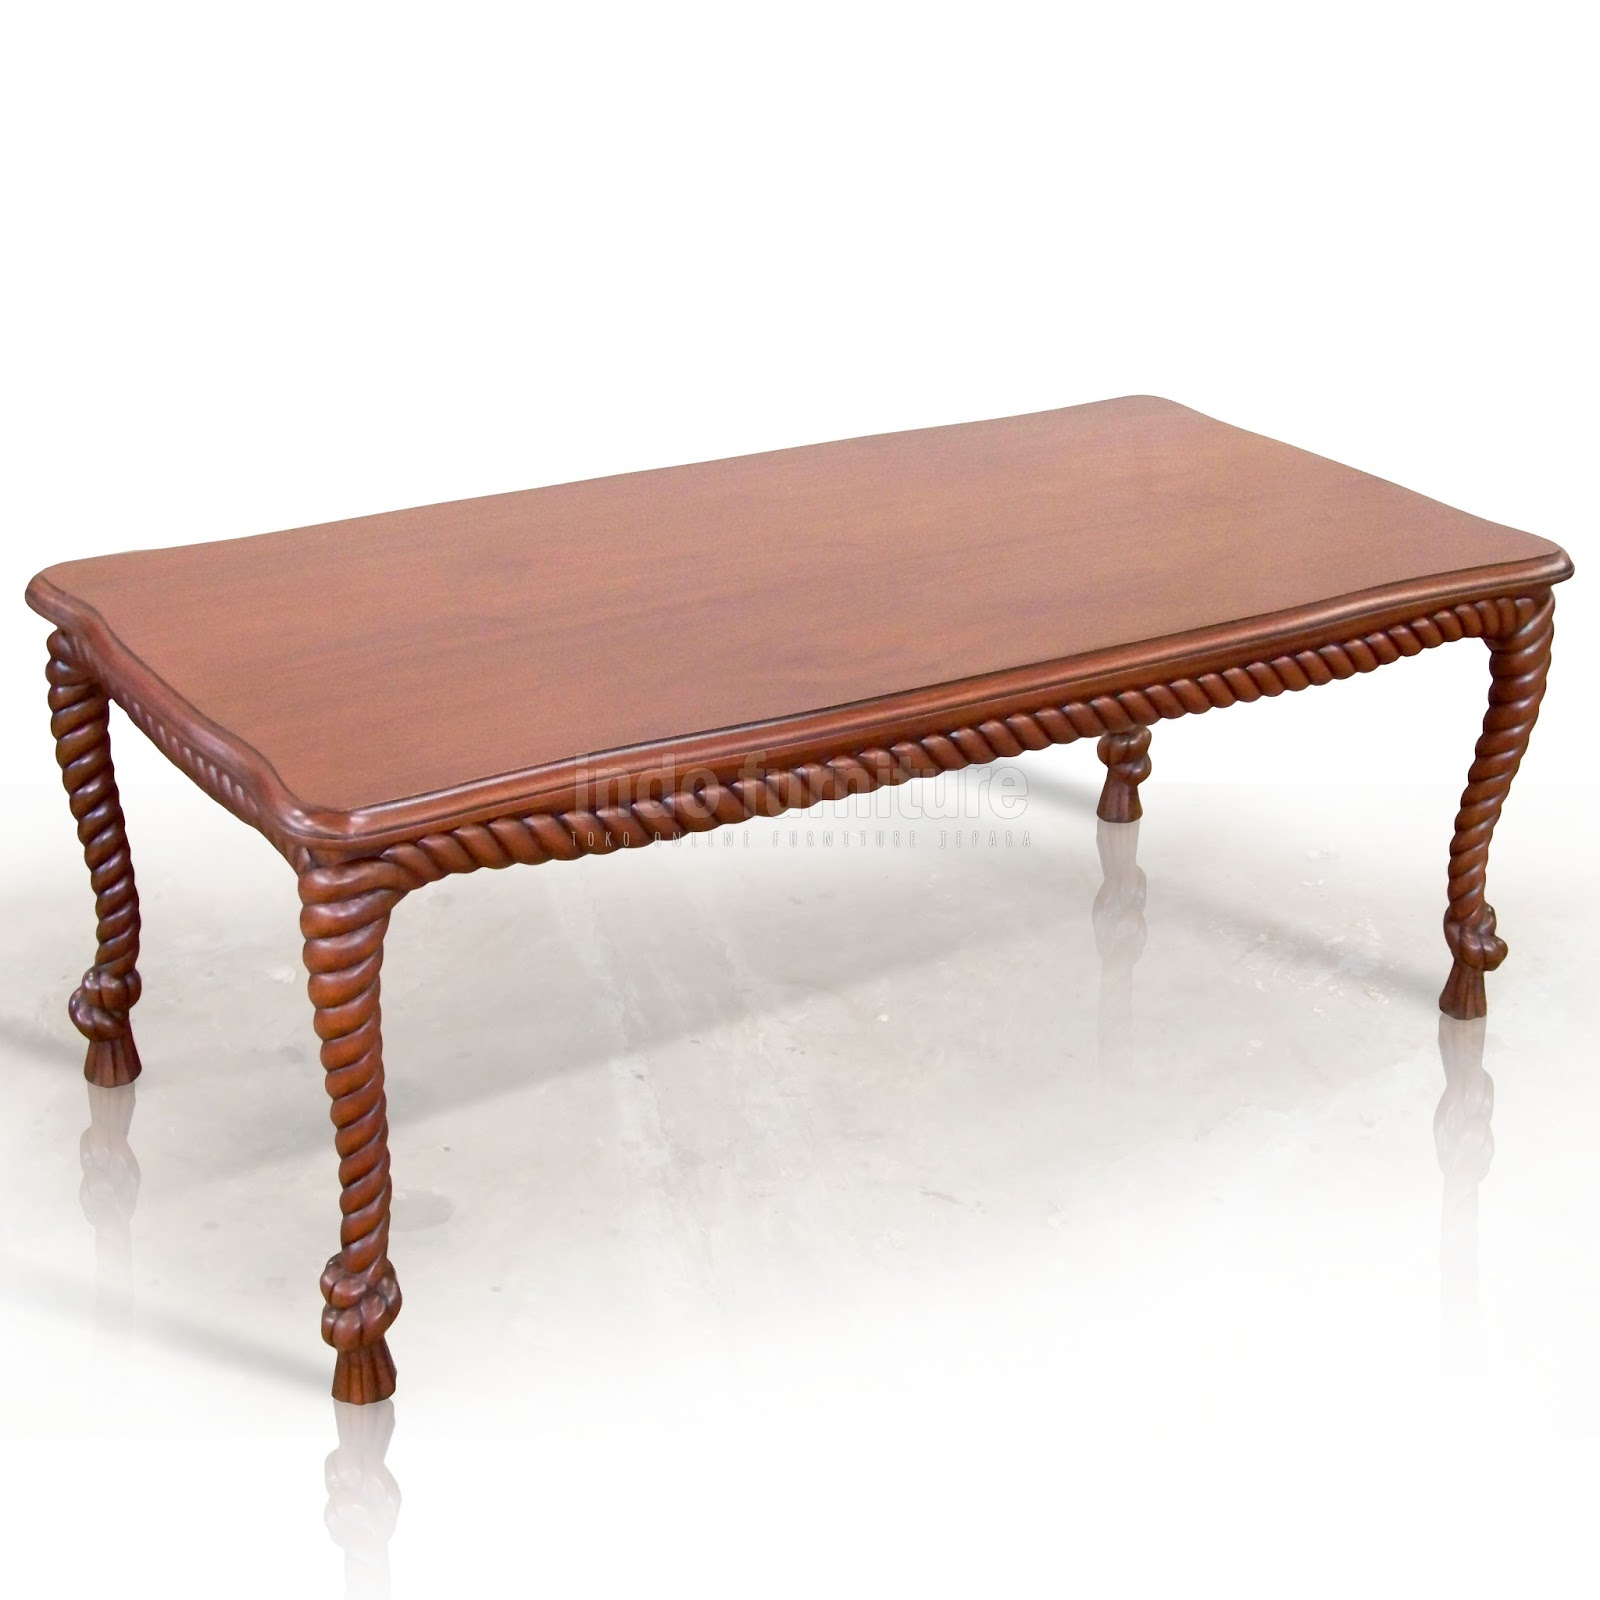Carving Table: (38, 470, 1575, 1297)
